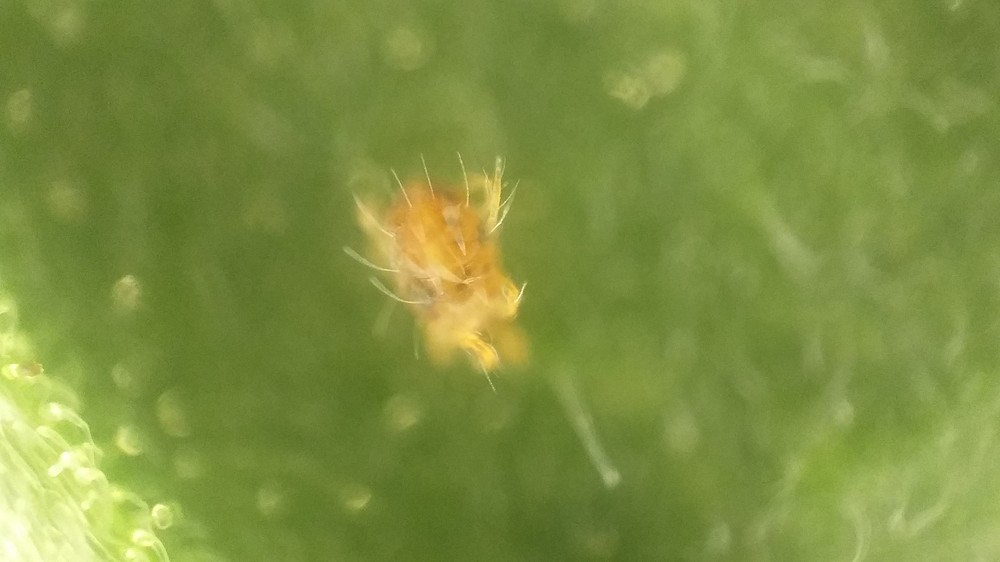Aracnido Rojo: (336, 153, 572, 395)
